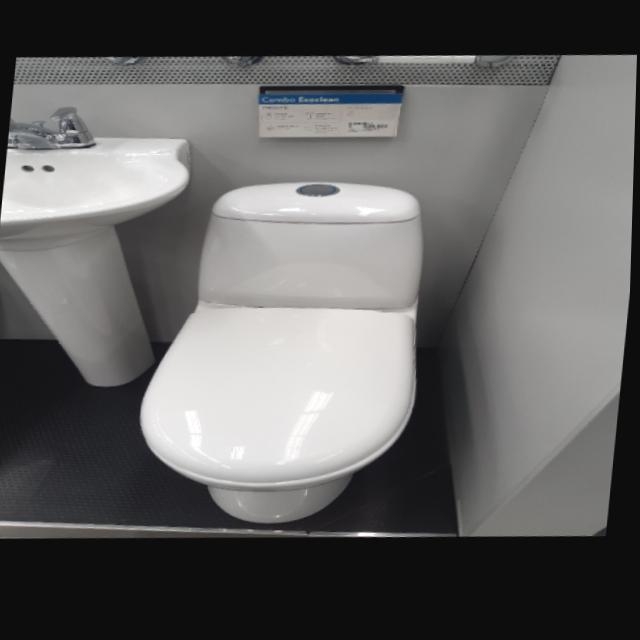toilet: (130, 167, 438, 545)
